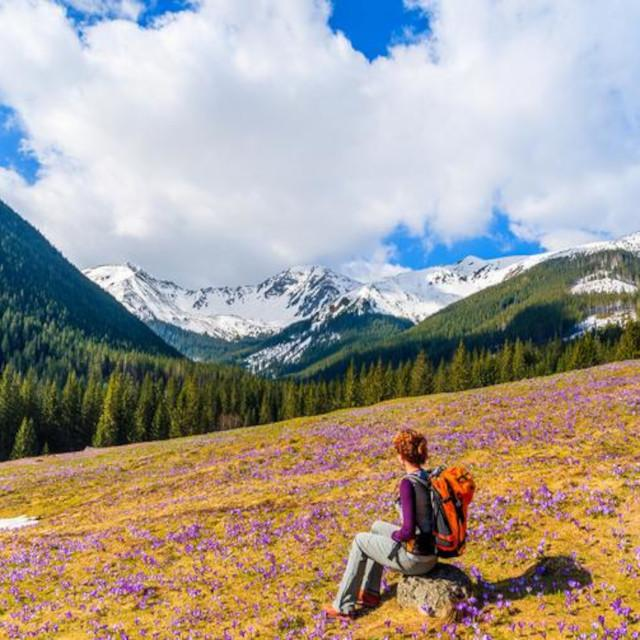kobieta: (323, 426, 484, 628)
